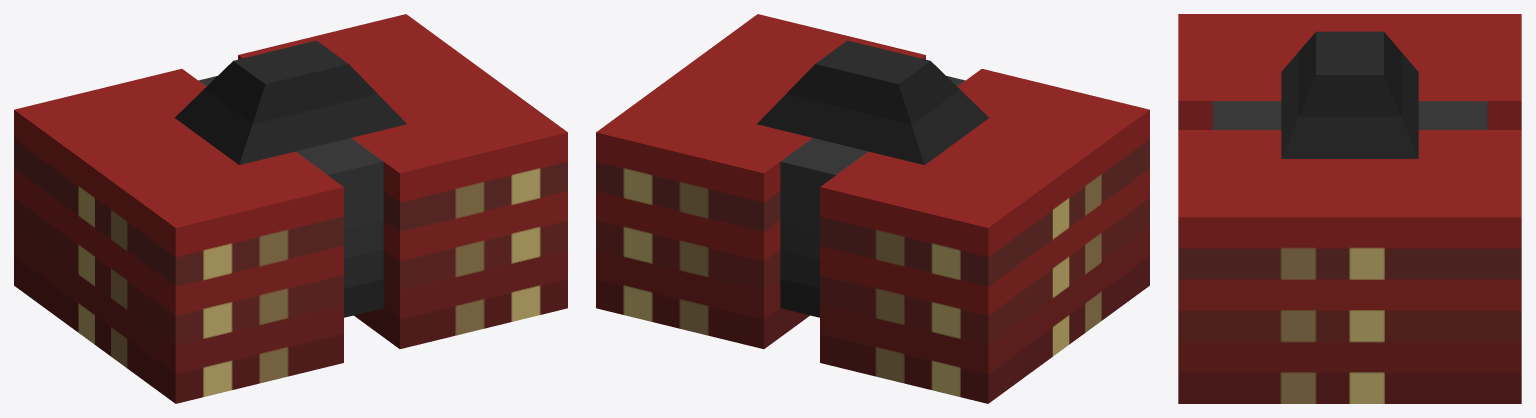
3 renders of one model, left to right at view 1: azimuth 30°, elevation 25°; view 2: azimuth 150°, elevation 25°; view 3: azimuth 270°, elevation 25°, orthographic. The views are drawn at different scales.
Parts seen in each view (by area): view 1: Root048; view 2: Root048; view 3: Root048.
Part boxes in pixels (x1=…): Root048: x1=14, y1=14, x2=567, y2=403; Root048: x1=596, y1=14, x2=1149, y2=403; Root048: x1=1178, y1=14, x2=1521, y2=403.
Bounding box in the file's own units: 14 × 8 × 10.
